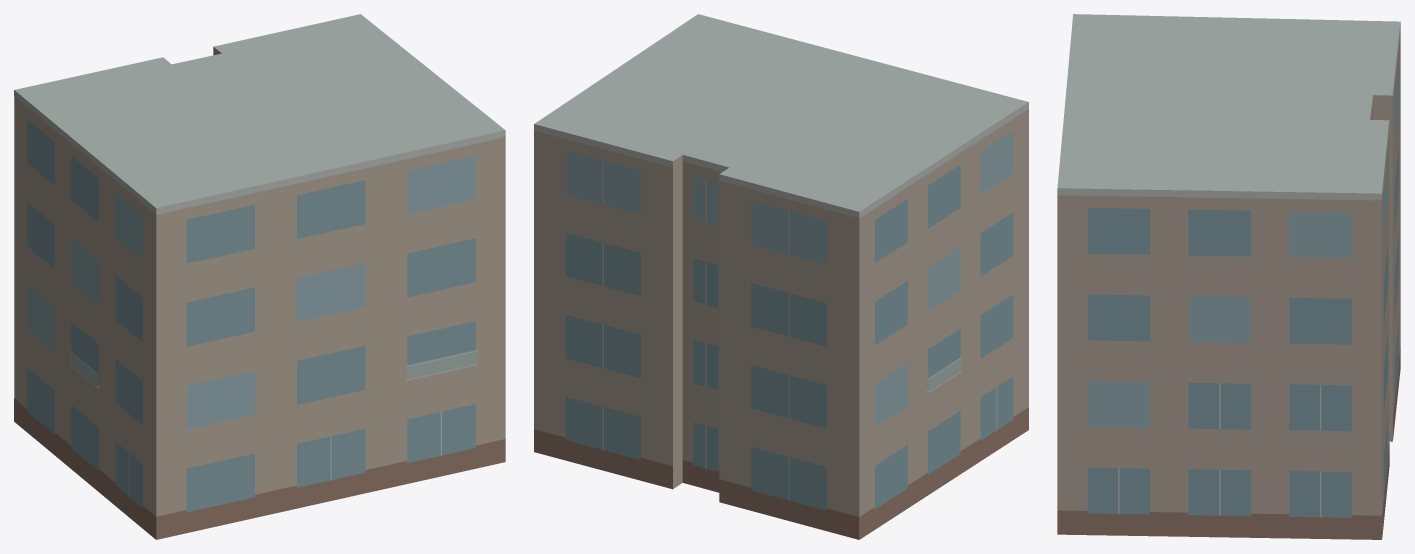
File: survey-upis-32659763.glb
3 views of the same model, side by side, from view 1: azimuth 30°, elevation 25°; view 2: azimuth 150°, elevation 25°; view 3: azimuth 270°, elevation 25° (orthographic). The views are drawn at different scales.
Visible parts, largest first — view 1: survey-upis-32659763.tmp; view 2: survey-upis-32659763.tmp; view 3: survey-upis-32659763.tmp.
Boxes of the visible parts, x1=… form: survey-upis-32659763.tmp: x1=14, y1=14, x2=505, y2=539; survey-upis-32659763.tmp: x1=534, y1=14, x2=1028, y2=539; survey-upis-32659763.tmp: x1=1057, y1=14, x2=1400, y2=539.
Size of the model in its own units: 13.57 by 12.2 by 10.97.
